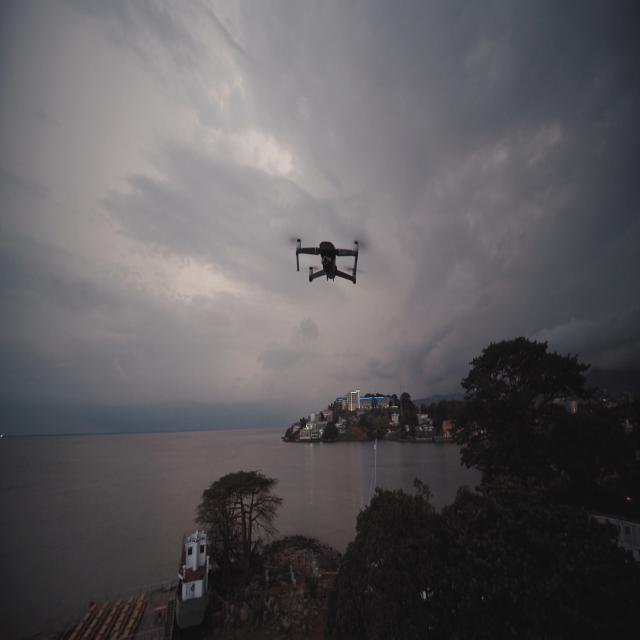drone: (295, 238, 359, 284)
